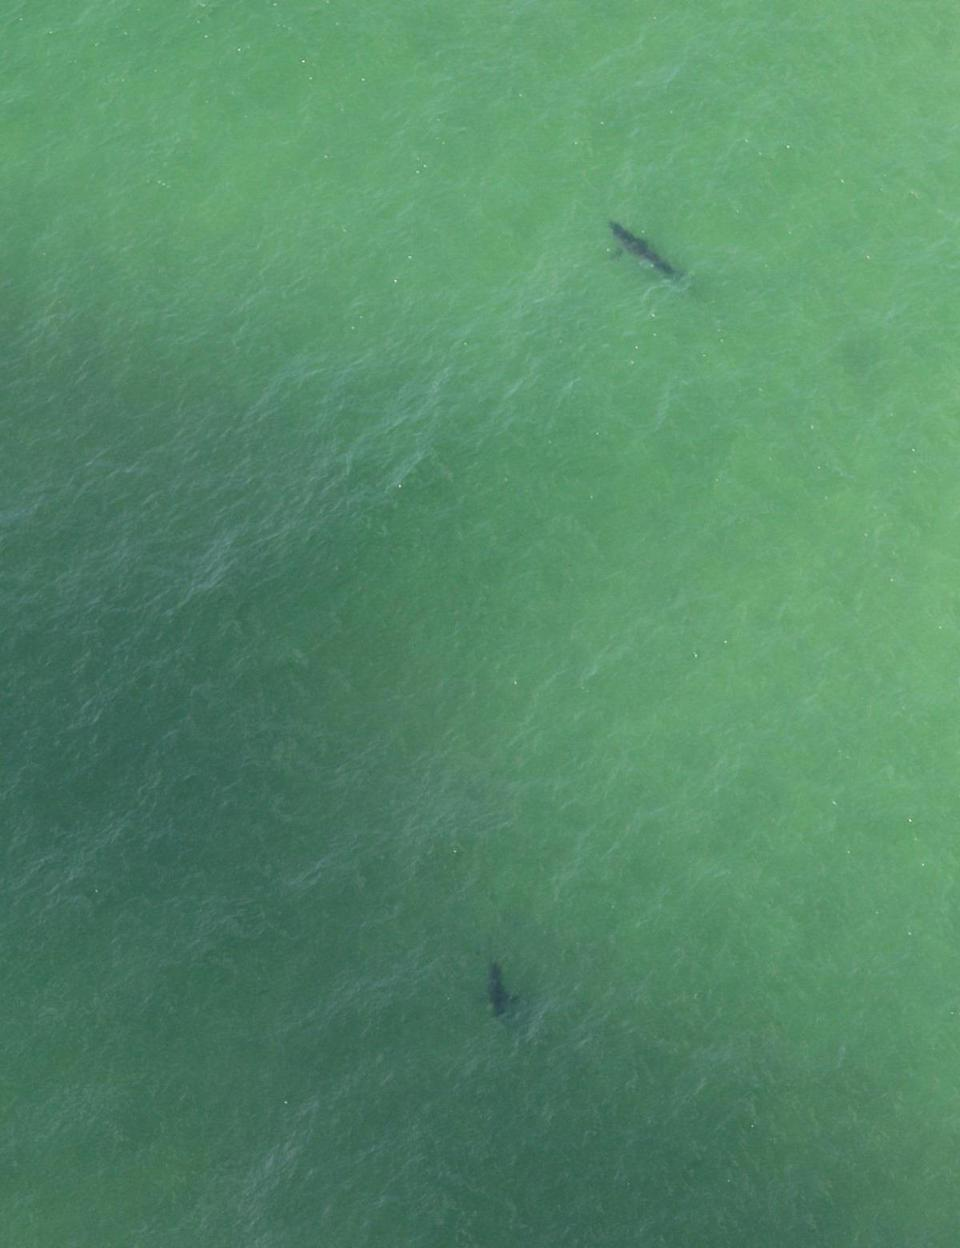shark: (598, 213, 679, 284)
